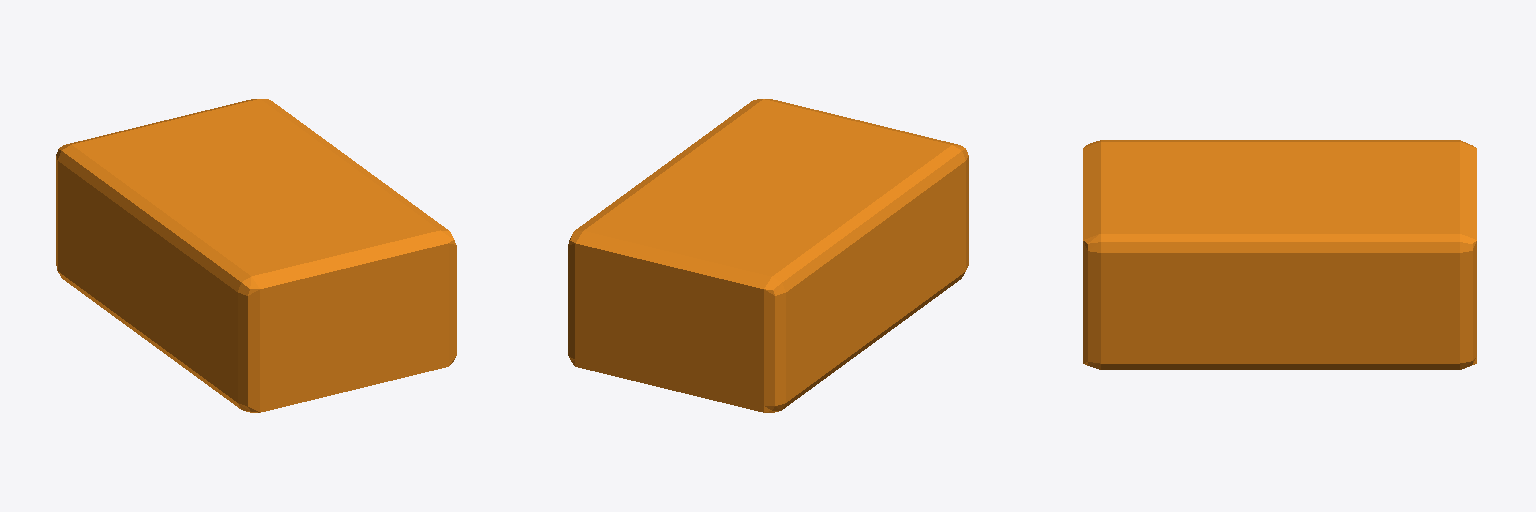
Rendered from butter.obj.
3 renders of one model, left to right at view 1: azimuth 30°, elevation 25°; view 2: azimuth 150°, elevation 25°; view 3: azimuth 270°, elevation 25°, orthographic.
Size of the model in its own units: 0.6344 by 0.3826 by 1.